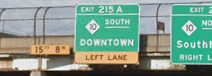1: (33, 44, 38, 54)
5: (37, 44, 44, 55)
8: (53, 45, 61, 54)
overheadsign: (28, 43, 70, 55)
